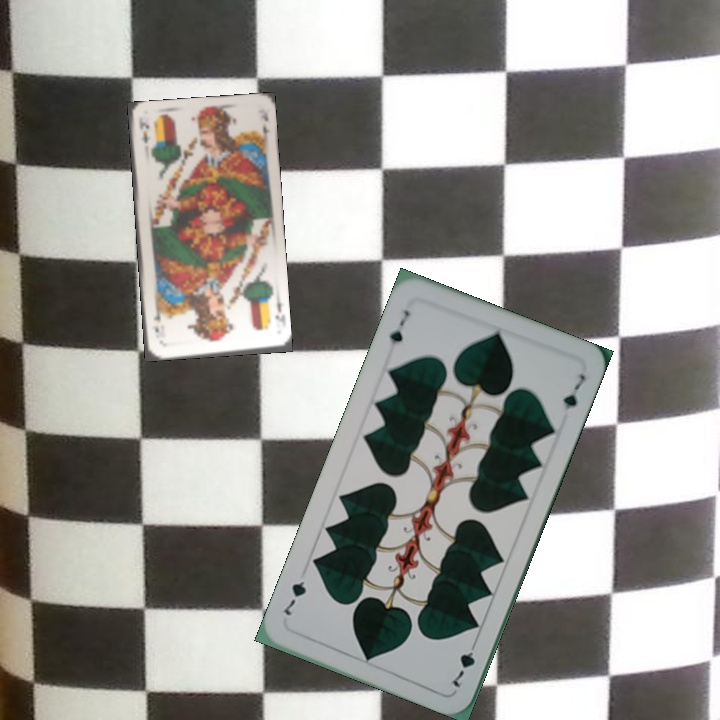EK: (135, 116, 152, 146), (272, 295, 286, 329)
G7: (448, 635, 481, 690), (385, 306, 413, 347)
